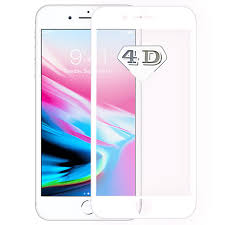iphone: (33, 1, 141, 221)
iphone7: (32, 1, 140, 220)
